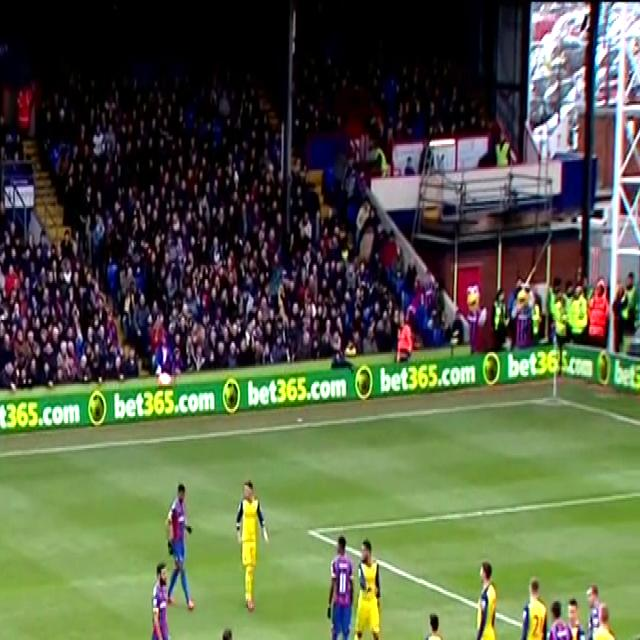soccer-player: (229, 468, 272, 619), (163, 471, 201, 609), (320, 526, 361, 640), (359, 528, 392, 640), (468, 544, 504, 640), (575, 565, 619, 640), (144, 563, 184, 640), (510, 565, 549, 640), (540, 586, 578, 640), (413, 602, 456, 640), (565, 583, 593, 640), (613, 601, 639, 640), (203, 618, 247, 640)
